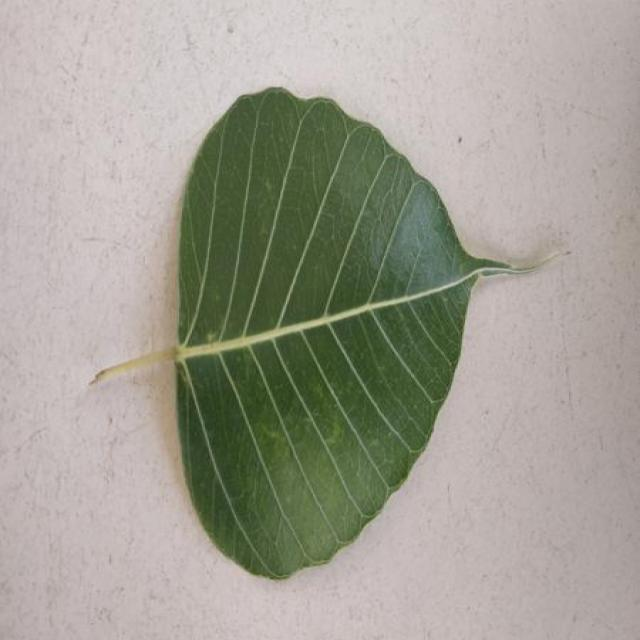arali: (93, 88, 530, 578)
